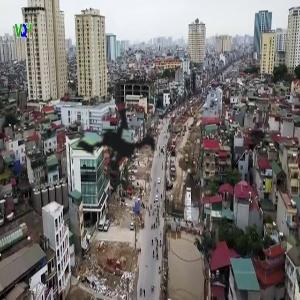drone: (6, 26, 229, 249)
